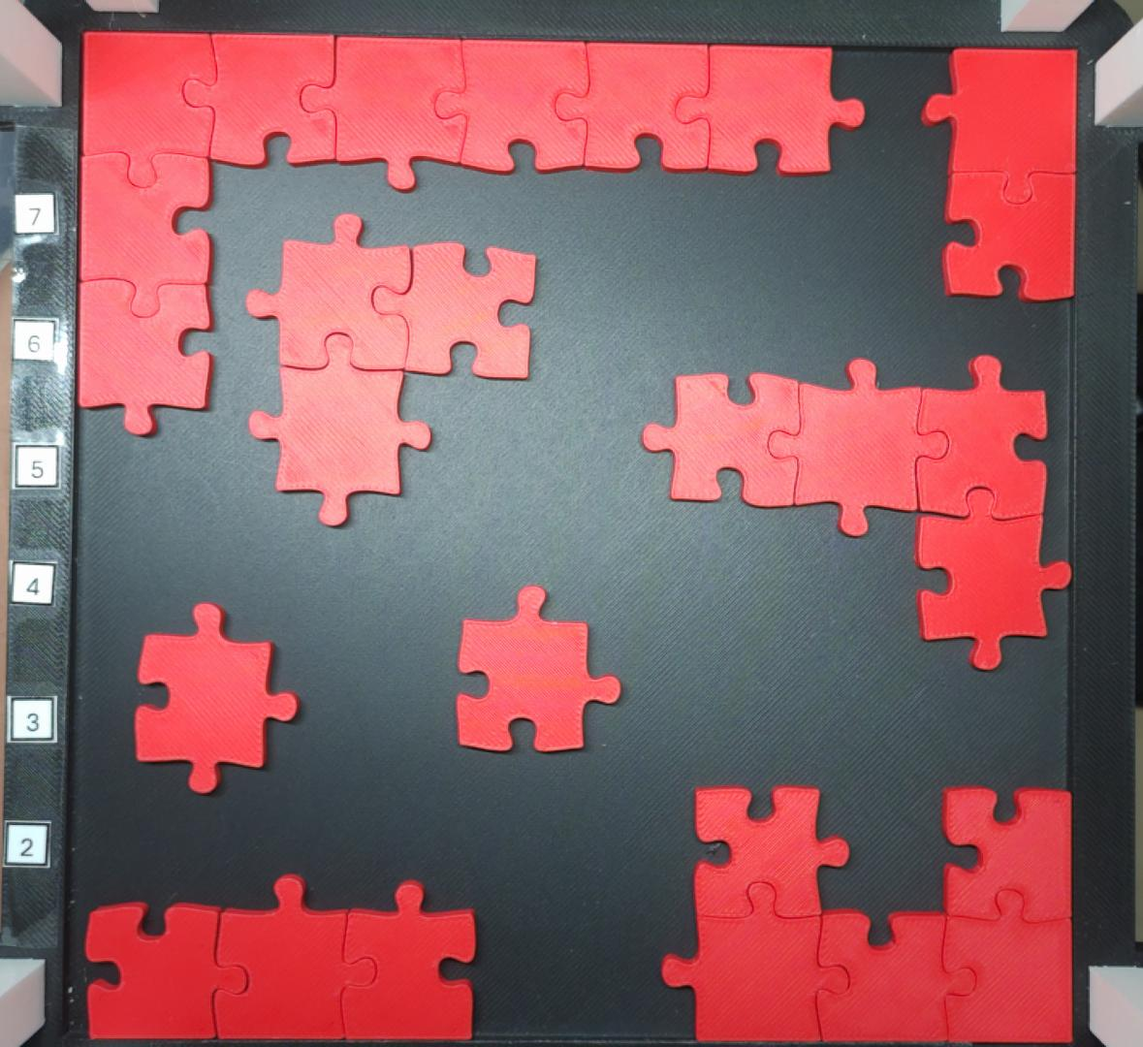p_1: (130, 600, 301, 796), (455, 582, 625, 755)
p_2: (919, 45, 1078, 303)
p_3: (242, 210, 539, 531), (82, 872, 478, 1040)
p_4: (640, 355, 1075, 674)
p_m: (72, 28, 869, 440), (656, 783, 1075, 1045)
